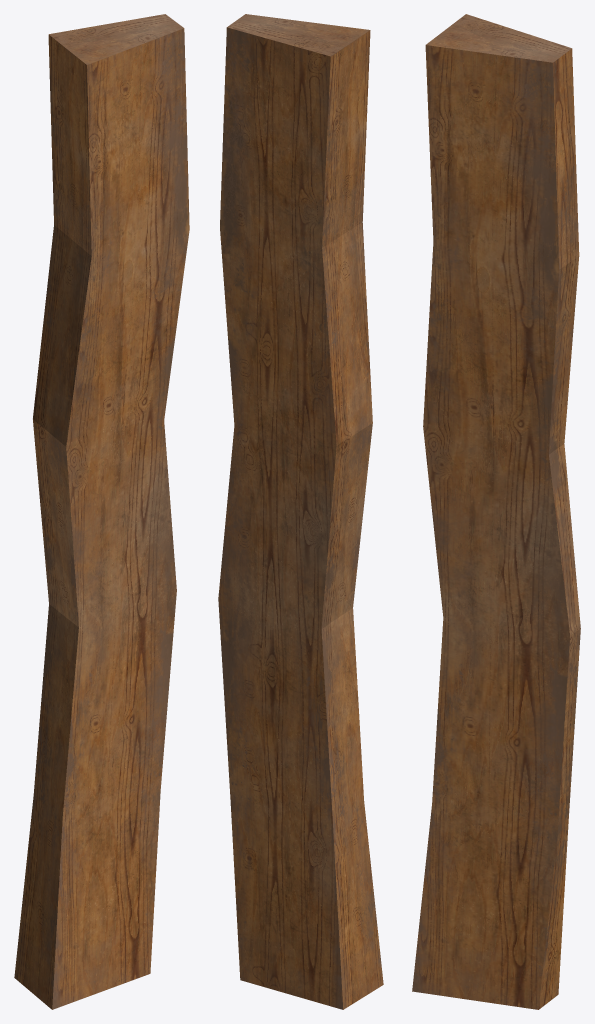
File: Wood.fbx
3 views of the same model, side by side, from view 1: azimuth 30°, elevation 25°; view 2: azimuth 150°, elevation 25°; view 3: azimuth 330°, elevation 25° (orthographic). The views are drawn at different scales.
Visible parts, largest first — view 1: Cube.002; view 2: Cube.002; view 3: Cube.002.
Part boxes in pixels (left/top/right/bottom): Cube.002: left=14, top=14, right=189, bottom=1009; Cube.002: left=218, top=14, right=383, bottom=1009; Cube.002: left=412, top=14, right=580, bottom=1009.
Size of the model in its own units: 91.14 by 582 by 55.59.
Materials: 1 (1 with a texture image).
